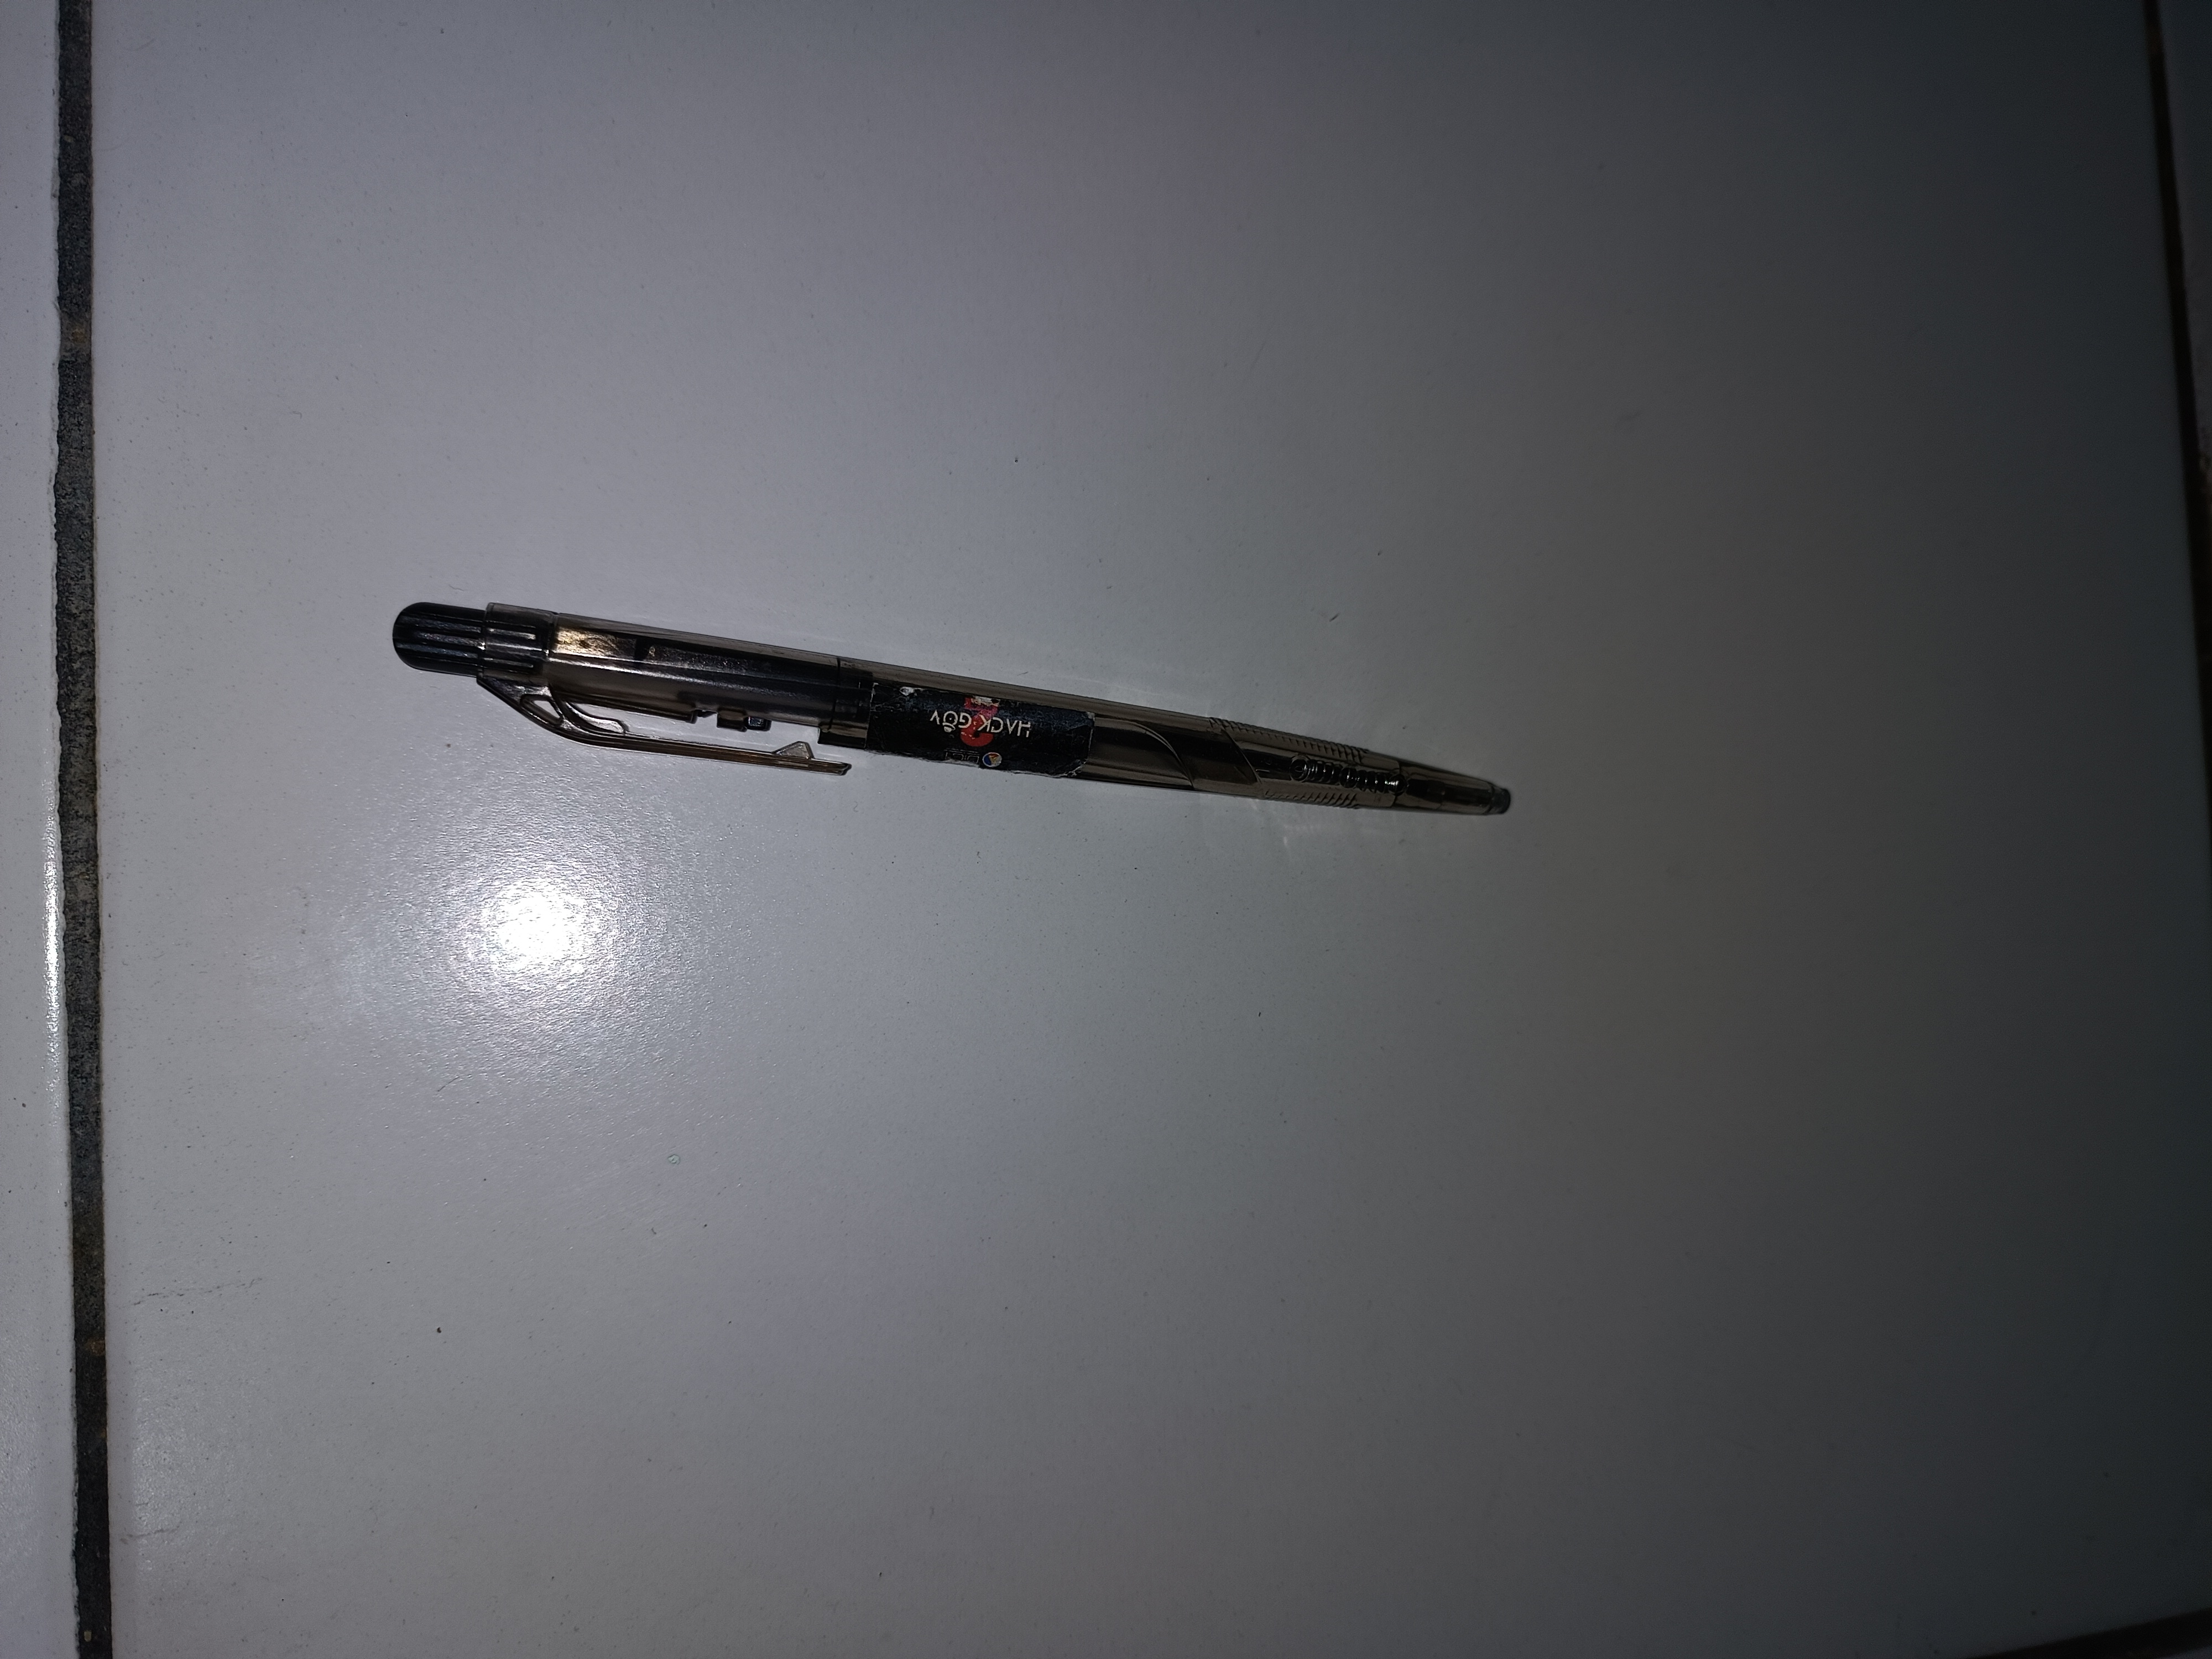Pen: (338, 505, 1554, 904)
